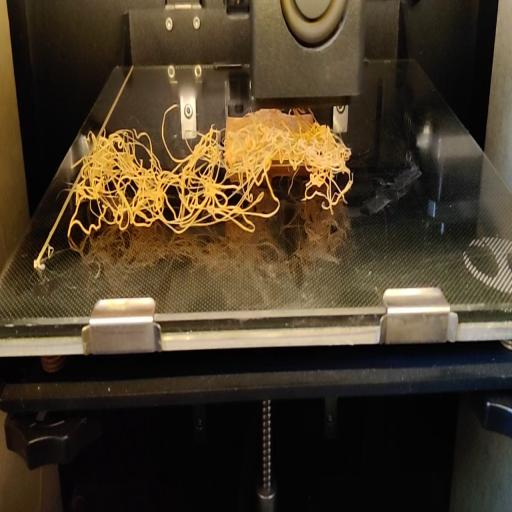spaghetti: (66, 100, 226, 241), (227, 118, 354, 228)
